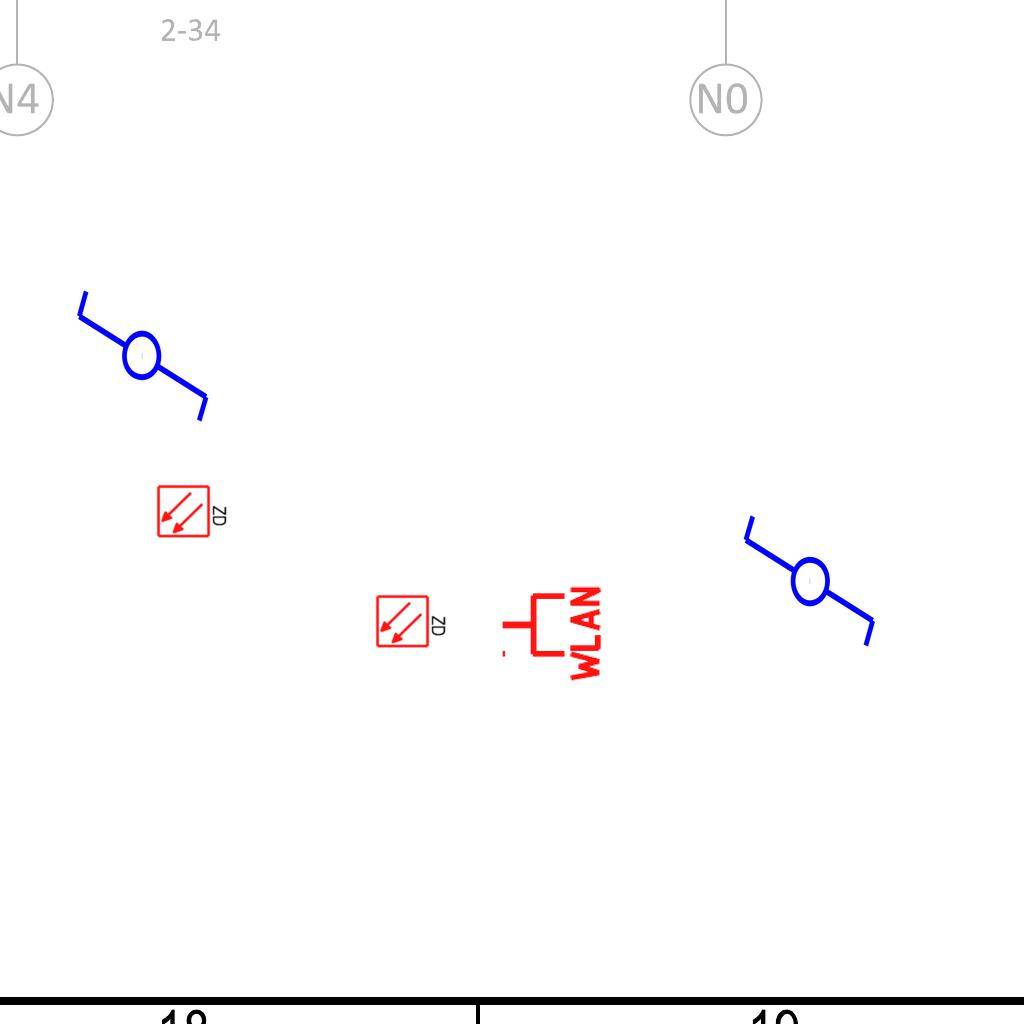WLAN: (498, 582, 603, 686)
Wechselschalter: (72, 269, 216, 426), (736, 511, 880, 668)
ZD_Melder_in_Zwischendecke_mit_Revisionsoeffnung_mind_40_x_40_cm: (156, 482, 230, 539), (375, 592, 449, 649)
